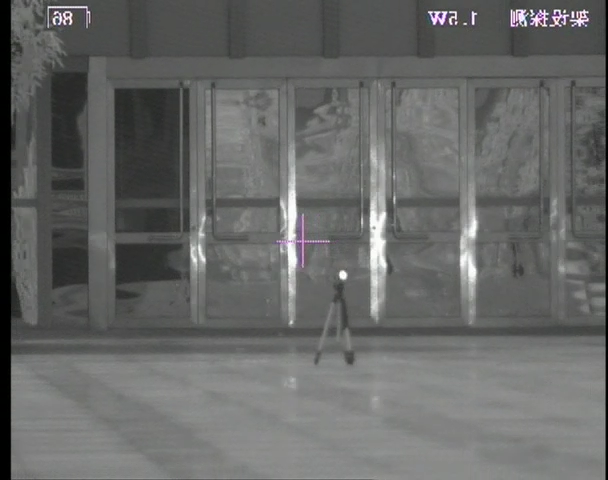my: (337, 269, 348, 282)
